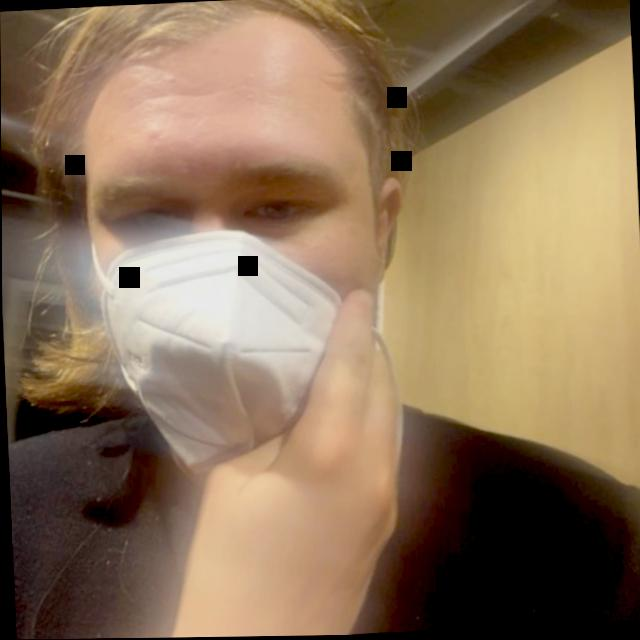Mask: (44, 0, 428, 475)
